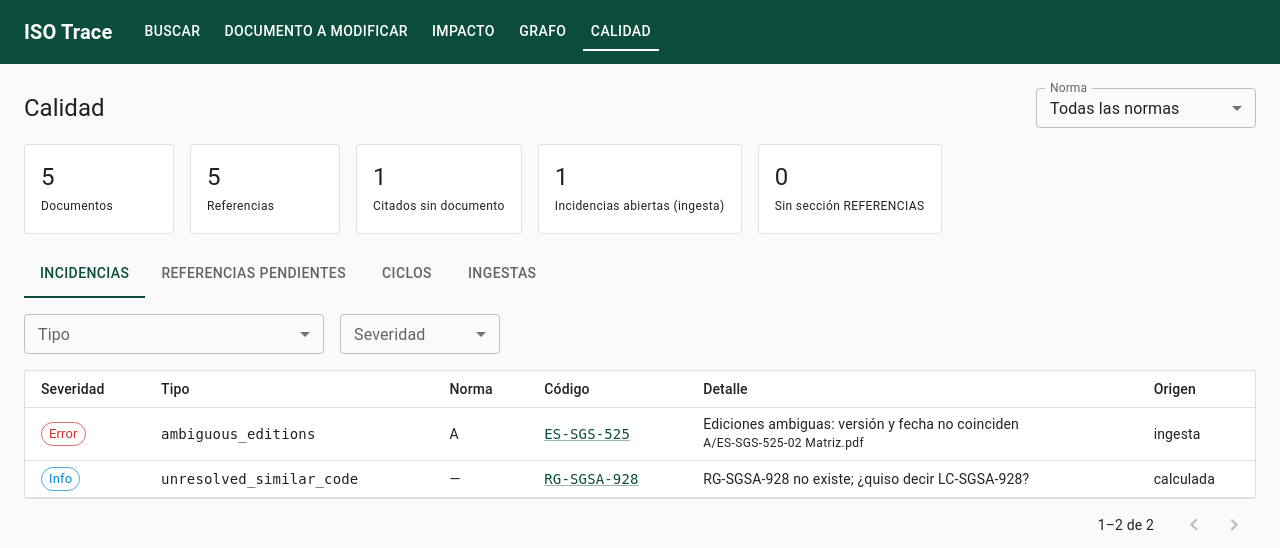
Test: QualityPage › lista los códigos citados sin documento y los ambiguos
Click the tab "Referencias pendientes": (254, 274) [145,250,362,298]
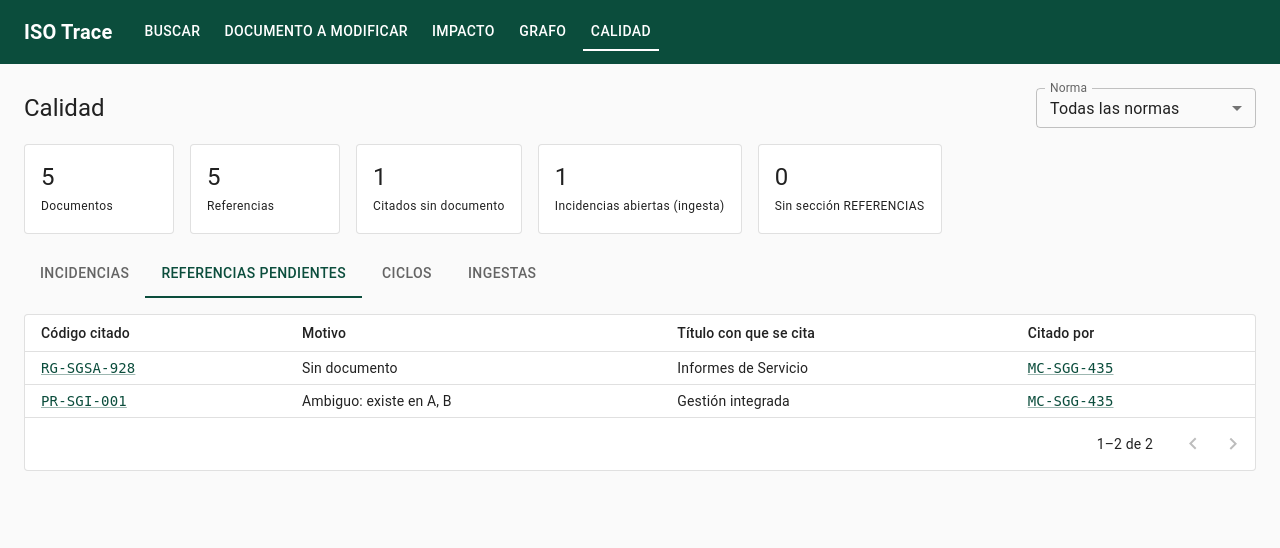
Check: the link "RG-SGSA-928" is shown, box [41,360,135,376]
Check: the text "Ambiguo: existe en A, B" is shown, box [286,384,661,418]
